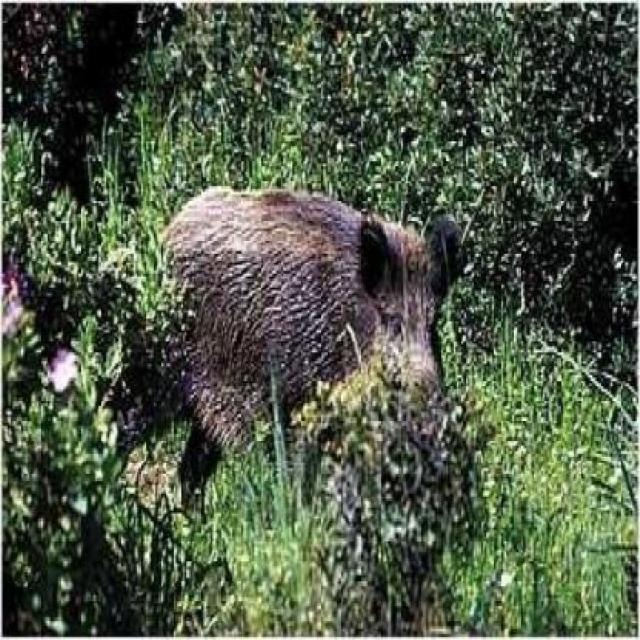pig: (125, 165, 458, 526)
